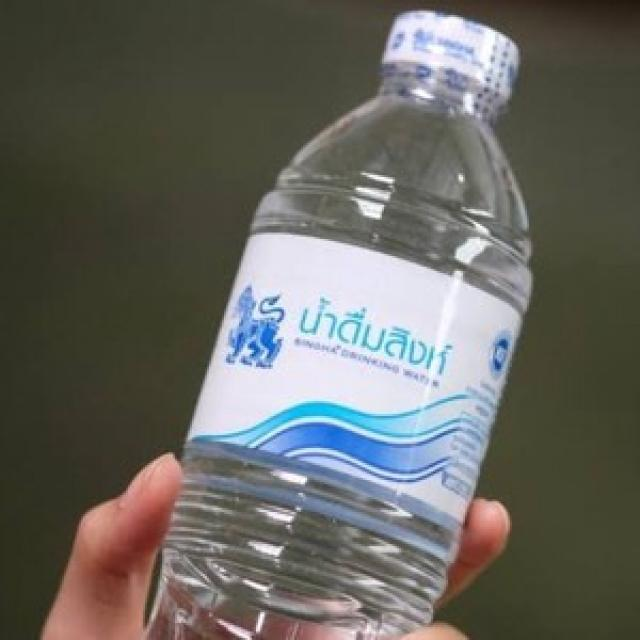plastic_bottle: (141, 10, 533, 640)
